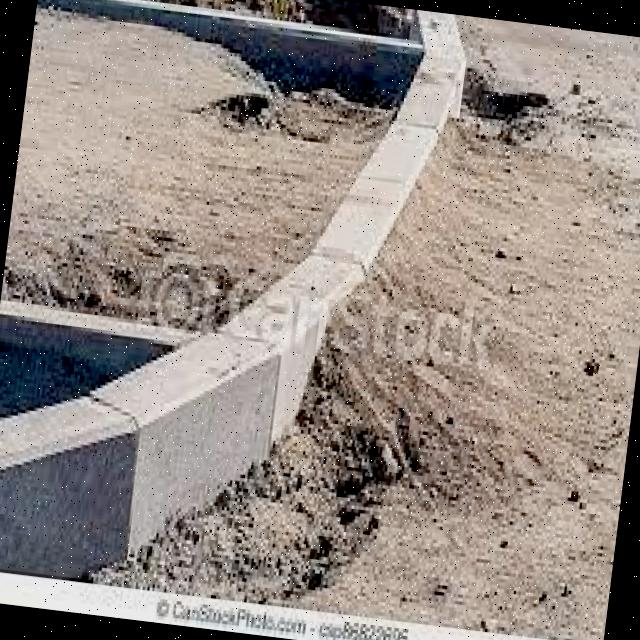curb: (92, 329, 278, 564), (213, 257, 362, 448), (1, 399, 141, 584), (314, 119, 439, 274)
